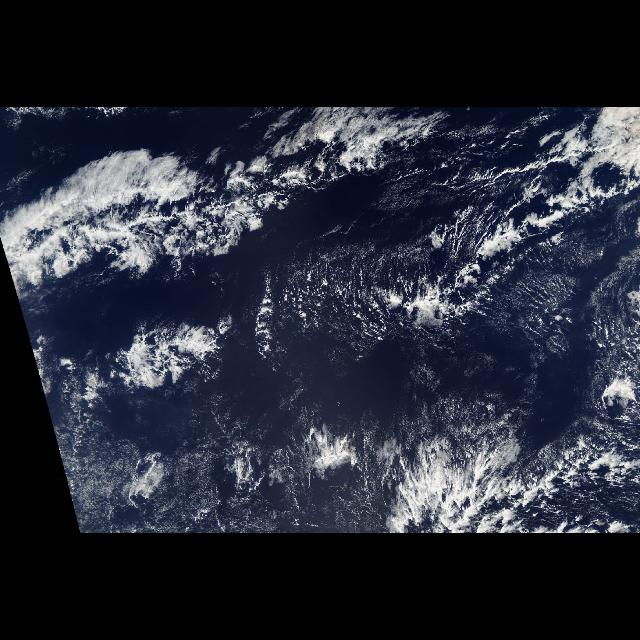Fish: (0, 107, 638, 395)
Sugar: (39, 378, 409, 532)
